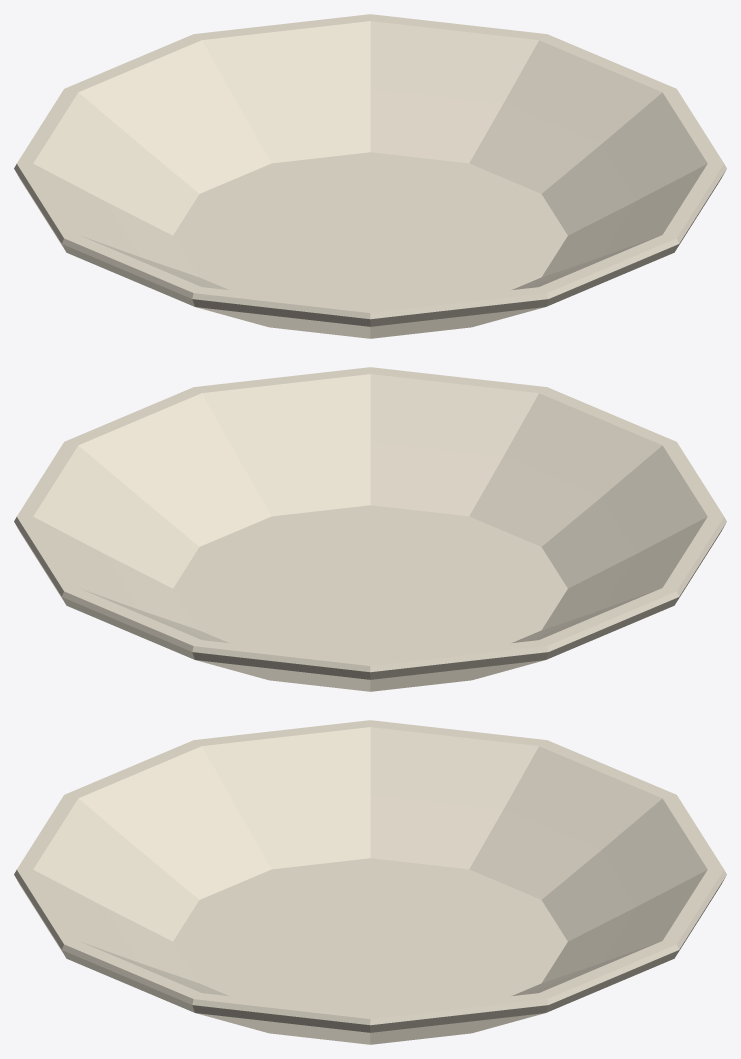
Rendered from plate.glb.
The picture shows the model from 3 angles, top to bottom: view 1: azimuth 30°, elevation 25°; view 2: azimuth 150°, elevation 25°; view 3: azimuth 270°, elevation 25°; orthographic projection.
Parts seen in each view (by area): view 1: Ivory shallow plate; view 2: Ivory shallow plate; view 3: Ivory shallow plate.
Part boxes in pixels (left/top/right/bottom): Ivory shallow plate: left=14, top=14, right=726, bottom=338; Ivory shallow plate: left=14, top=367, right=726, bottom=691; Ivory shallow plate: left=14, top=720, right=726, bottom=1044.
Size of the model in its own units: 0.26 by 0.036 by 0.26.
